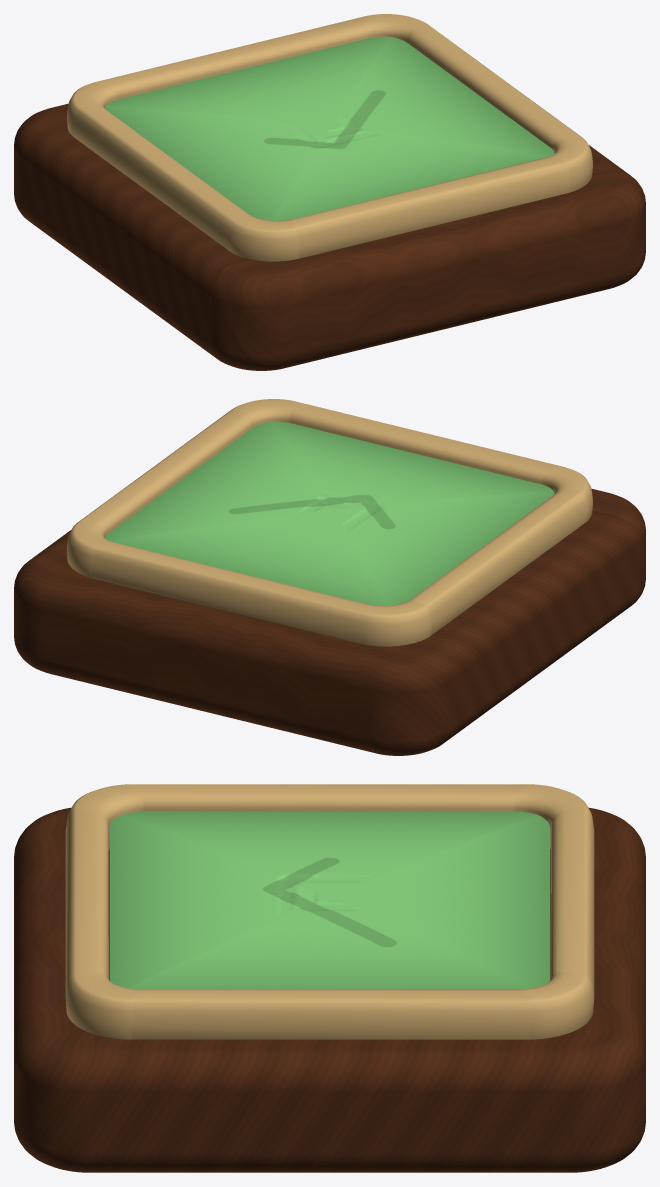
File: lamp_square.glb
The picture shows the model from 3 angles, top to bottom: view 1: azimuth 30°, elevation 25°; view 2: azimuth 150°, elevation 25°; view 3: azimuth 270°, elevation 25°; orthographic projection. The views are drawn at different scales.
Visible parts, largest first — view 1: OakBase, FrostedLens, BrassBezel; view 2: OakBase, FrostedLens, BrassBezel; view 3: OakBase, FrostedLens, BrassBezel.
Boxes of the visible parts, x1,y1,x2,y2 form: OakBase: [14, 104, 645, 370]; FrostedLens: [105, 36, 554, 220]; BrassBezel: [67, 14, 592, 261]; OakBase: [14, 489, 645, 755]; FrostedLens: [105, 421, 554, 605]; BrassBezel: [67, 399, 592, 646]; OakBase: [14, 807, 645, 1172]; FrostedLens: [109, 811, 550, 989]; BrassBezel: [65, 784, 594, 1039].
Size of the model in its own units: 0.066 by 0.0183 by 0.066.
Materials: 3 (2 with a texture image).
